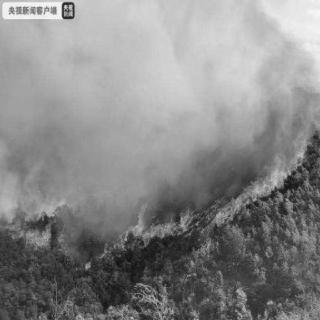Fire: (5, 208, 77, 276)
